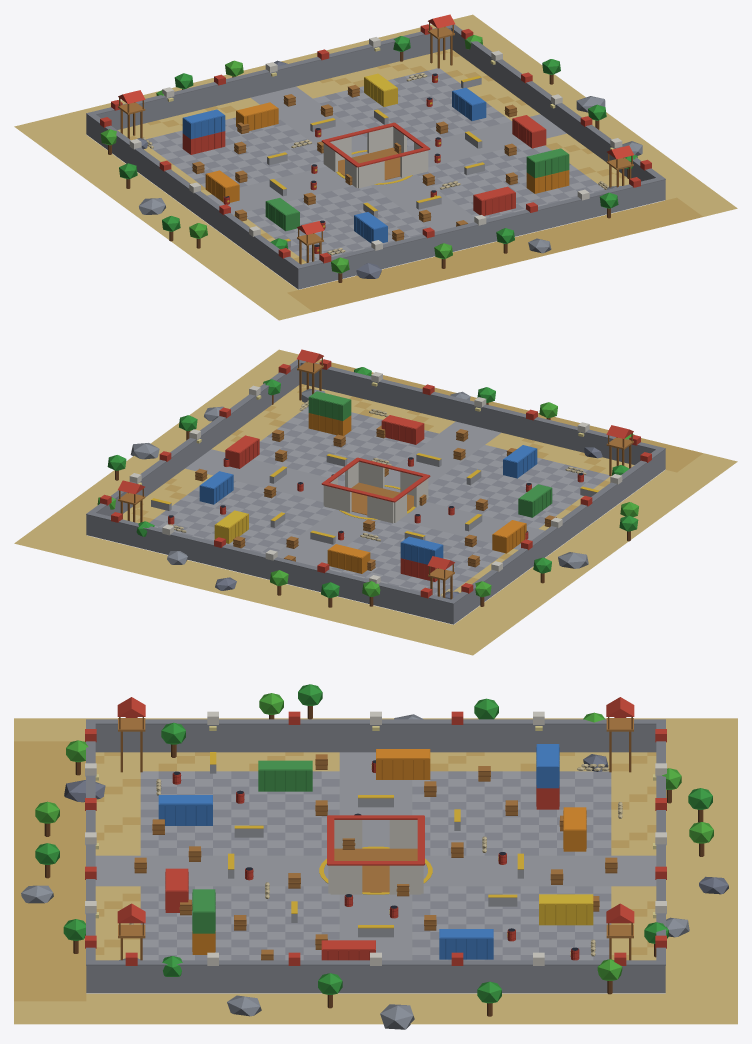
File: arena.glb
The picture shows the model from 3 angles, top to bottom: view 1: azimuth 30°, elevation 25°; view 2: azimuth 150°, elevation 25°; view 3: azimuth 270°, elevation 25°; orthographic projection. The views are drawn at different scales.
Parts seen in each view (by area): view 1: BR_ArenaGround, BR_ArenaStatic; view 2: BR_ArenaGround, BR_ArenaStatic; view 3: BR_ArenaGround, BR_ArenaStatic.
Part boxes in pixels (x1=…): BR_ArenaGround: x1=14, y1=14, x2=737, y2=320; BR_ArenaStatic: x1=86, y1=14, x2=665, y2=289; BR_ArenaGround: x1=14, y1=349, x2=737, y2=655; BR_ArenaStatic: x1=86, y1=349, x2=665, y2=624; BR_ArenaGround: x1=14, y1=718, x2=737, y2=1024; BR_ArenaStatic: x1=21, y1=684, x2=728, y2=1029.
Bounding box in the file's own units: 82.45 × 9.03 × 80.
